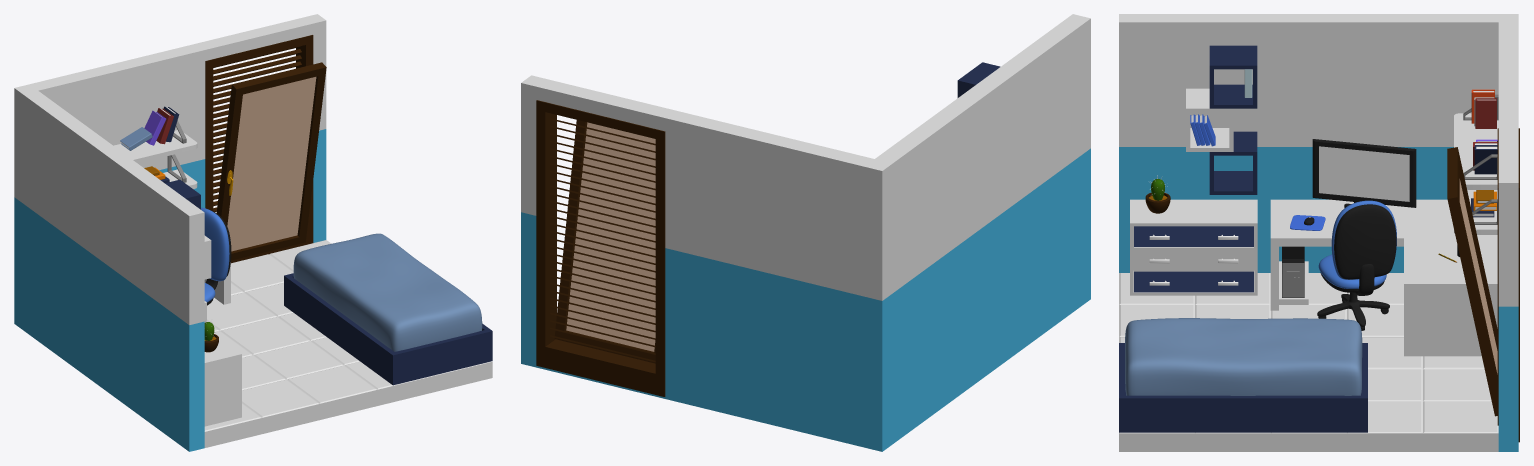
The model's file is cameretta.fbx.
3 renders of one model, left to right at view 1: azimuth 30°, elevation 25°; view 2: azimuth 150°, elevation 25°; view 3: azimuth 270°, elevation 25°, orthographic. The views are drawn at different scales.
Parts seen in each view (by area): view 1: Cube.002, Cube, Cube.020, Cube.022, Cube.010, Cube.003, Cube.019, Cube.014, Cube.021, Cube.052, Cube.042, Cube.028 (+1 smaller); view 2: Cube.002, Cube.022, Cube.019, Cube.021, Cube.003, Cube.001; view 3: Cube.002, Cube, Cube.020, Cube.024, Cube.014, Cube.010, Cube.052, Cube.001, Cube.023, Cube.003, Cube.042, Cube.013 (+7 smaller).
Part boxes in pixels (bbox=[...]): Cube.002: bbox=[14, 14, 326, 451]; Cube: bbox=[204, 240, 492, 447]; Cube.020: bbox=[293, 233, 482, 351]; Cube.022: bbox=[227, 77, 316, 251]; Cube.010: bbox=[284, 273, 492, 385]; Cube.003: bbox=[216, 62, 326, 260]; Cube.019: bbox=[205, 35, 313, 263]; Cube.014: bbox=[204, 337, 241, 426]; Cube.021: bbox=[213, 46, 301, 211]; Cube.052: bbox=[201, 207, 231, 305]; Cube.042: bbox=[120, 106, 179, 183]; Cube.028: bbox=[113, 130, 197, 163]; Cube.002: bbox=[521, 14, 1090, 451]; Cube.022: bbox=[566, 122, 655, 351]; Cube.019: bbox=[536, 100, 665, 396]; Cube.021: bbox=[550, 118, 655, 362]; Cube.003: bbox=[554, 120, 655, 363]; Cube.001: bbox=[957, 62, 1000, 97]; Cube.002: bbox=[1119, 14, 1518, 451]; Cube: bbox=[1119, 273, 1498, 451]; Cube.020: bbox=[1125, 318, 1362, 395]; Cube.024: bbox=[1270, 199, 1497, 356]; Cube.014: bbox=[1130, 199, 1257, 295]; Cube.010: bbox=[1119, 343, 1367, 432]; Cube.052: bbox=[1317, 200, 1396, 326]; Cube.001: bbox=[1186, 45, 1257, 194]; Cube.023: bbox=[1319, 146, 1409, 201]; Cube.003: bbox=[1447, 147, 1497, 416]; Cube.042: bbox=[1190, 69, 1497, 217]; Cube.013: bbox=[1312, 139, 1416, 207].
Size of the model in its own units: 200 by 149 by 201.
